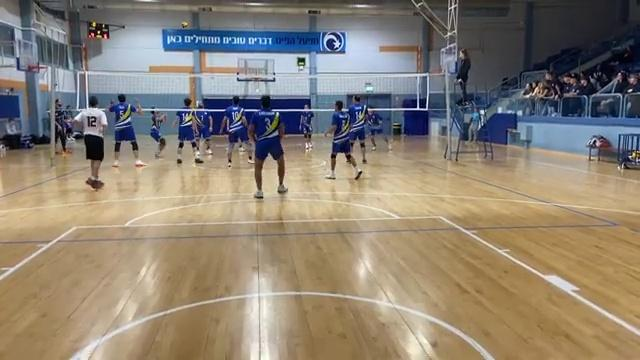ball: (182, 22, 188, 30)
